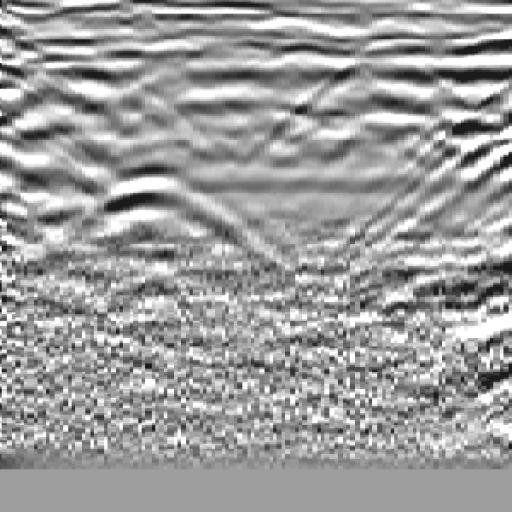metalic: (73, 166, 260, 290)
nonmetalic: (390, 36, 512, 303)
